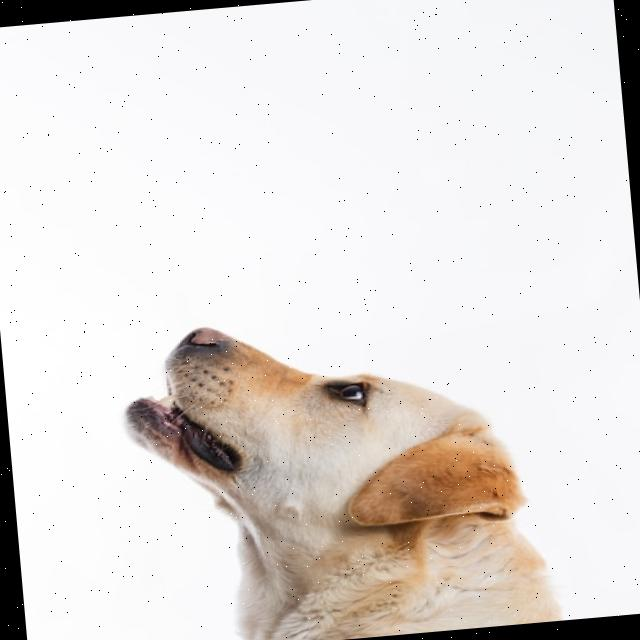Dog: (112, 297, 562, 640)
